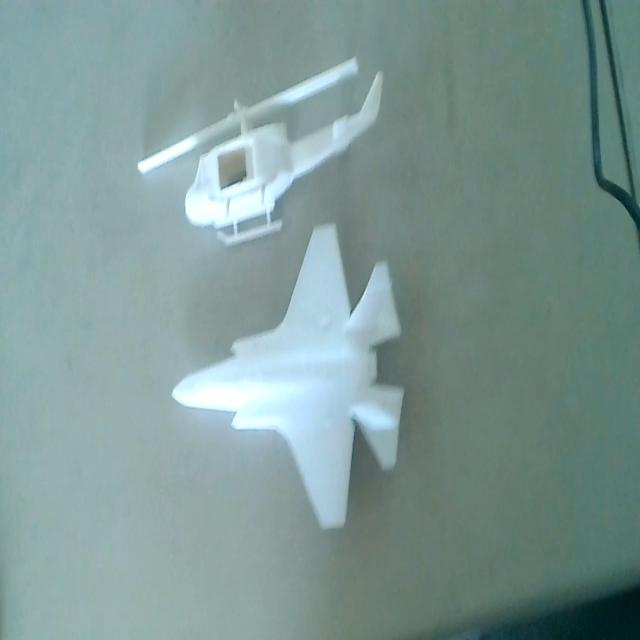Helicopter: (132, 48, 386, 248)
Jet: (166, 224, 409, 537)
